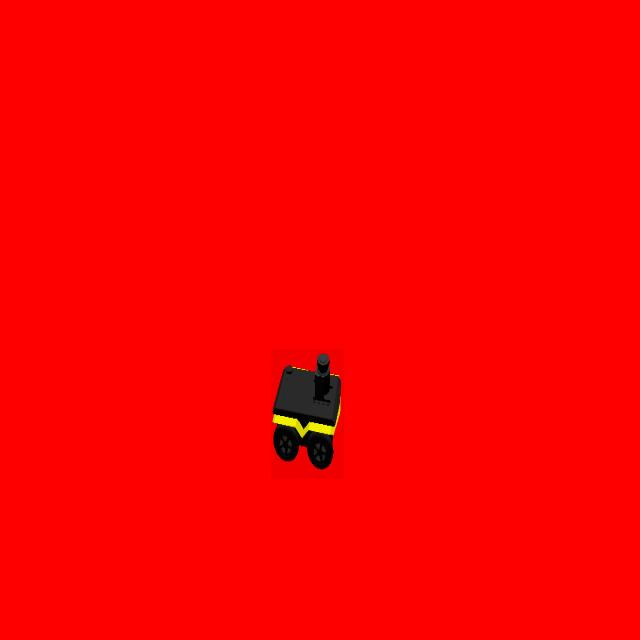jackal: (271, 349, 344, 479)
